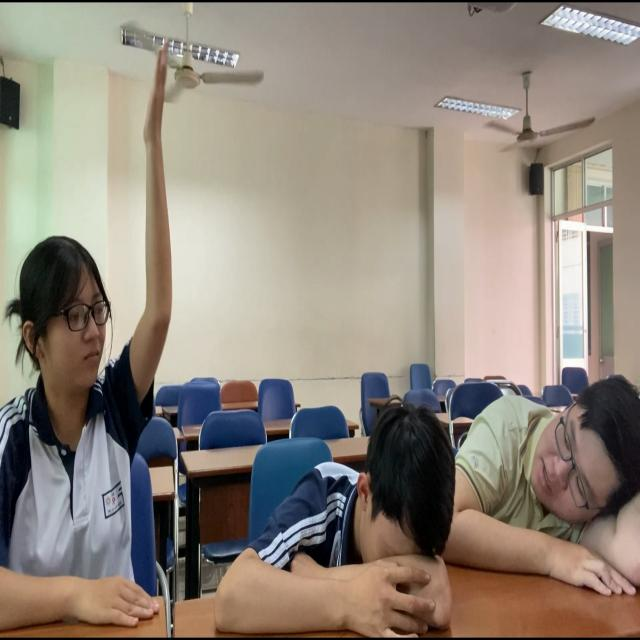raise_hand: (1, 37, 185, 640)
sleep: (204, 394, 463, 640)
